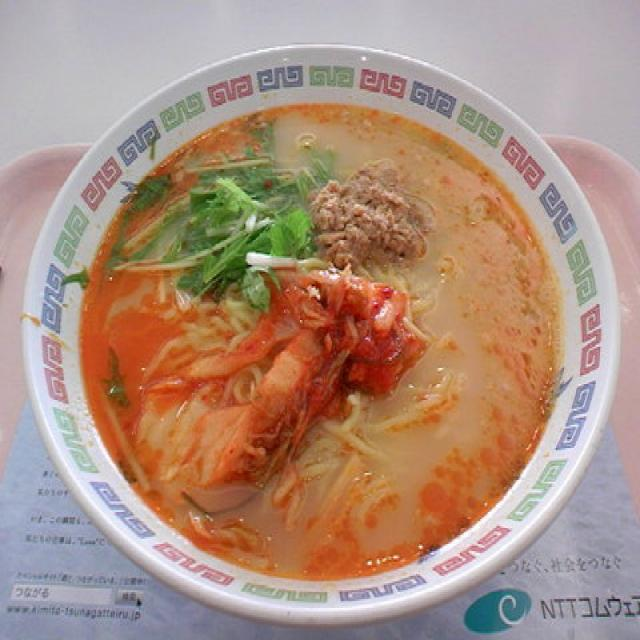面条主食: (20, 38, 620, 630)
